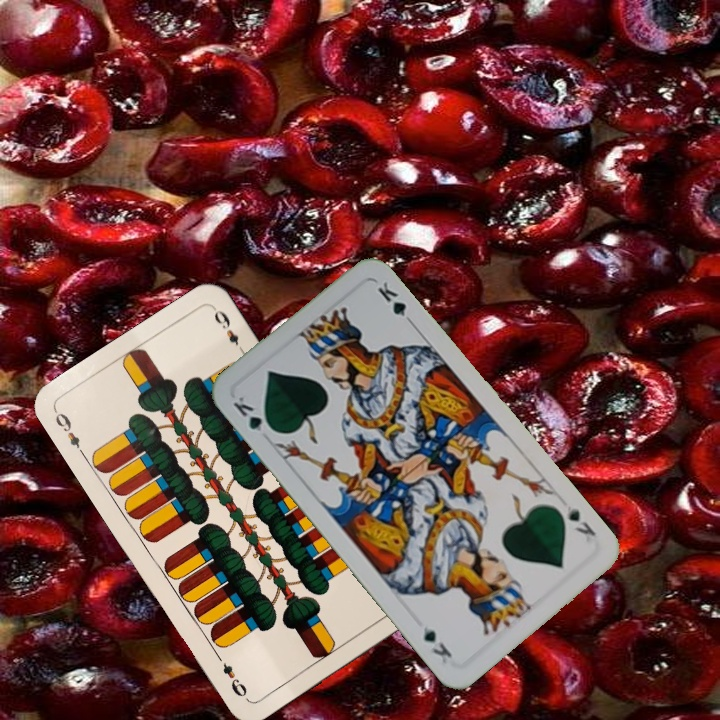E9: (50, 407, 88, 459)
GK: (228, 392, 278, 436), (562, 501, 599, 539)
